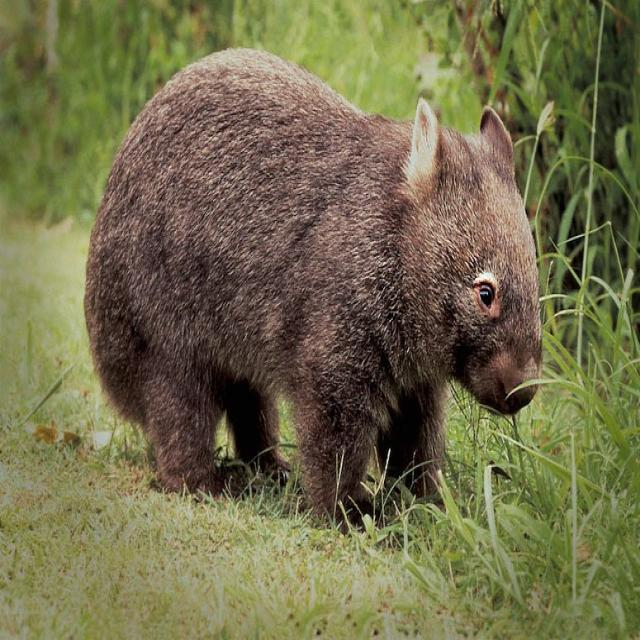Wombat: (79, 48, 546, 525)
